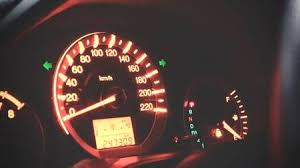Digital_Meter: (90, 115, 139, 149)
